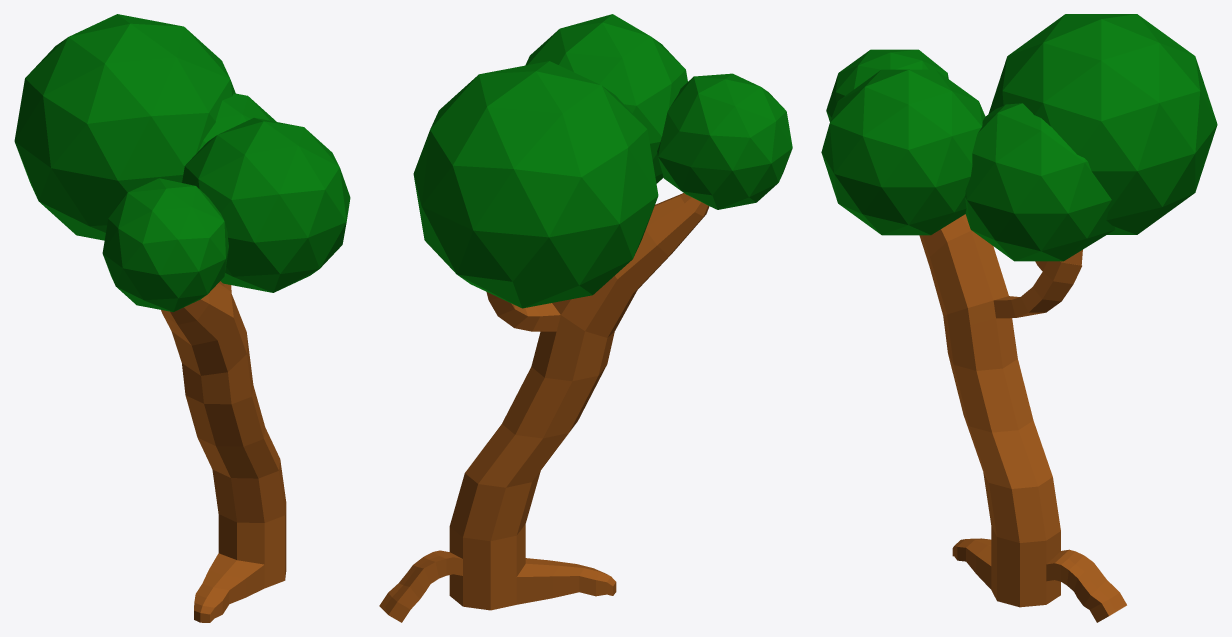
The model's file is Arbol1.fbx.
The picture shows the model from 3 angles, left to right: view 1: azimuth 30°, elevation 25°; view 2: azimuth 150°, elevation 25°; view 3: azimuth 270°, elevation 25°; orthographic projection. The views are drawn at different scales.
Visible parts, largest first — view 1: Icosphere.021, Cylinder.033, Icosphere.020, Icosphere.017, Icosphere.019; view 2: Icosphere.021, Cylinder.033, Icosphere.017, Icosphere.020; view 3: Cylinder.033, Icosphere.021, Icosphere.020, Icosphere.019, Icosphere.017.
Part boxes in pixels (<box>): Icosphere.021: <box>14,14,235,240</box>; Cylinder.033: <box>161,281,286,622</box>; Icosphere.020: <box>182,117,350,292</box>; Icosphere.017: <box>102,178,228,312</box>; Icosphere.019: <box>181,93,276,182</box>; Icosphere.021: <box>413,61,658,308</box>; Cylinder.033: <box>379,193,709,622</box>; Icosphere.017: <box>657,73,792,209</box>; Icosphere.020: <box>525,14,687,183</box>; Cylinder.033: <box>919,214,1126,622</box>; Icosphere.021: <box>988,14,1217,234</box>; Icosphere.020: <box>821,69,985,235</box>; Icosphere.019: <box>965,103,1115,261</box>; Icosphere.017: <box>826,49,948,121</box>.
Bounding box in the file's own units: 263 × 511 × 341.
